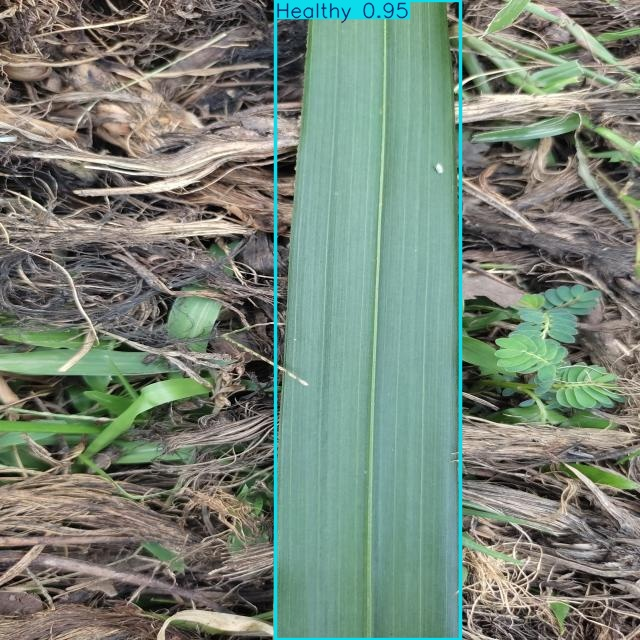Healthy: (275, 0, 461, 640)
